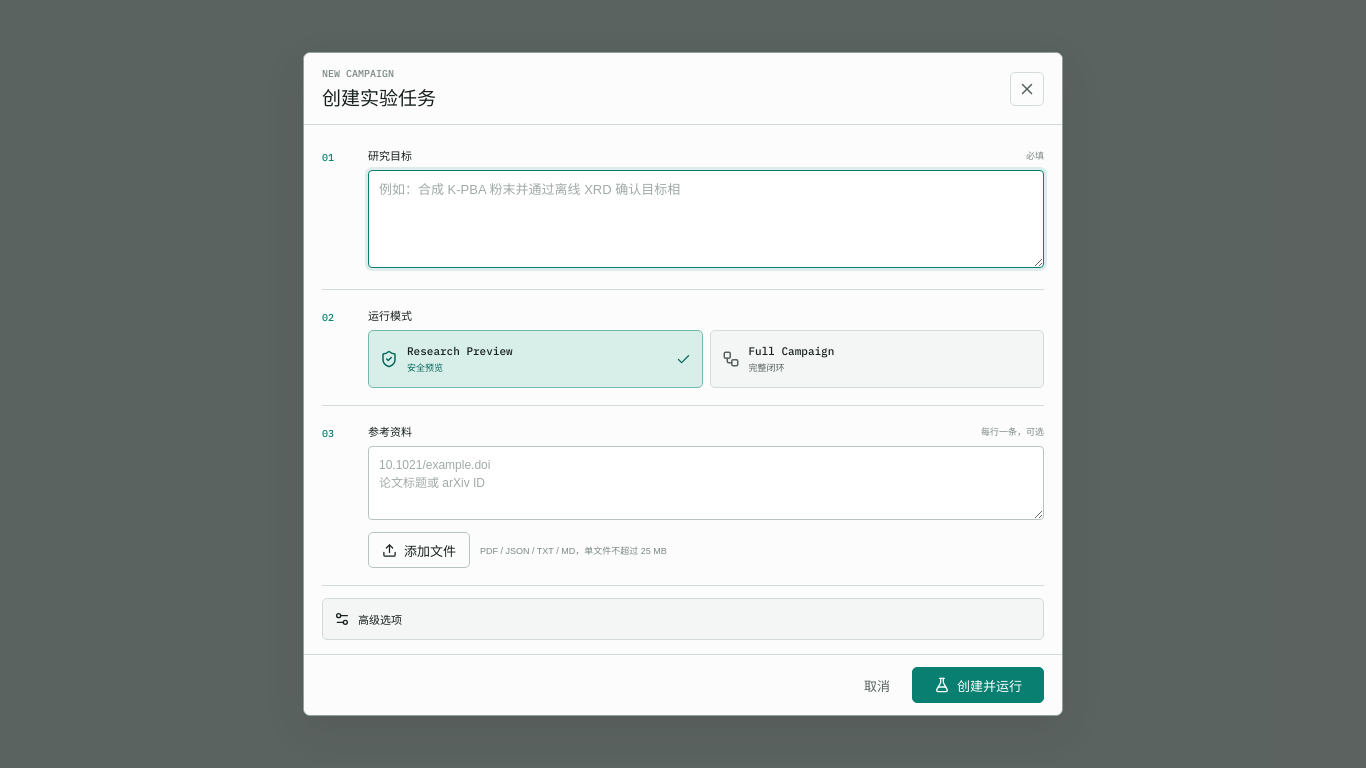
Test: NewCampaignDialog › clears and hides PDF download when online literature is disabled
Later steps or results of the test are not shown.
Click the heading "高级选项" at point(368, 619), box 334,611 -> 402,627
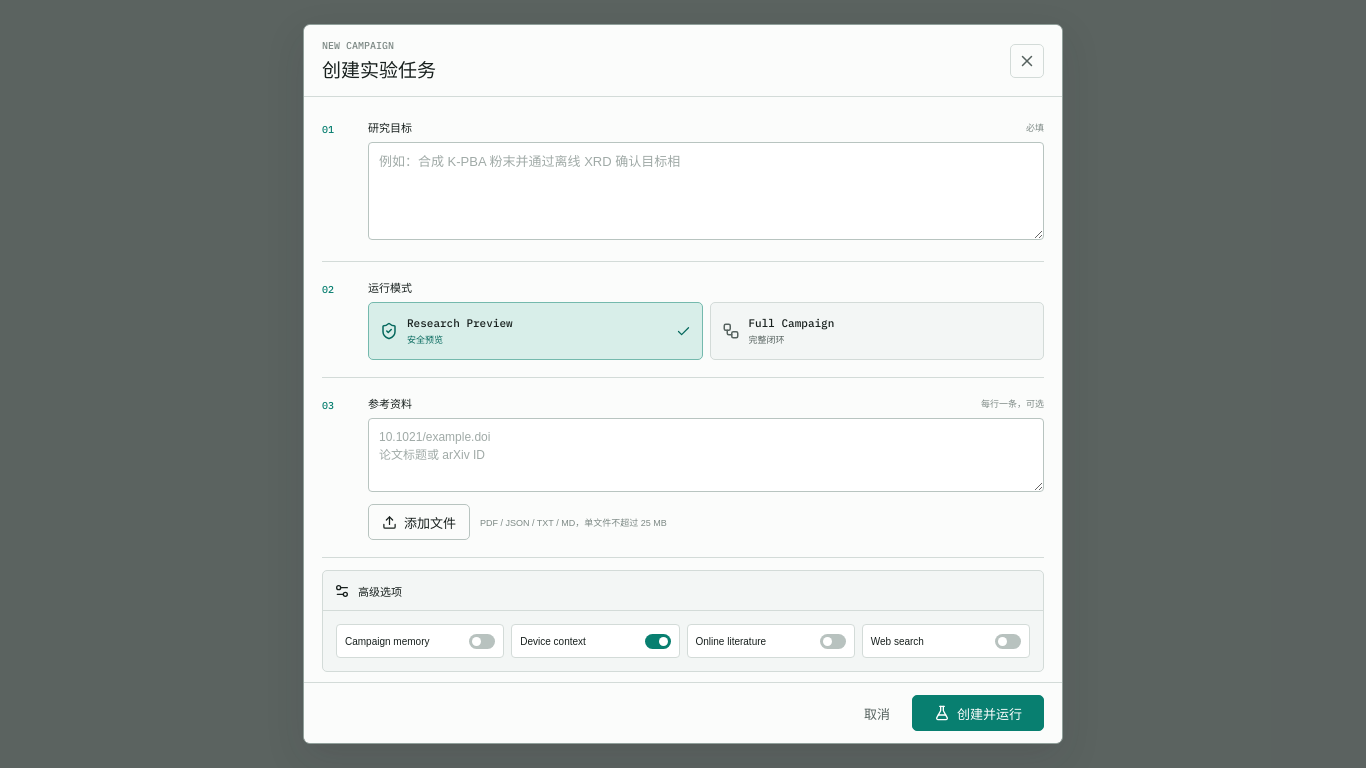
Click the checkbox labelled "Online literature" at point(771, 641), box 686,624 -> 855,658
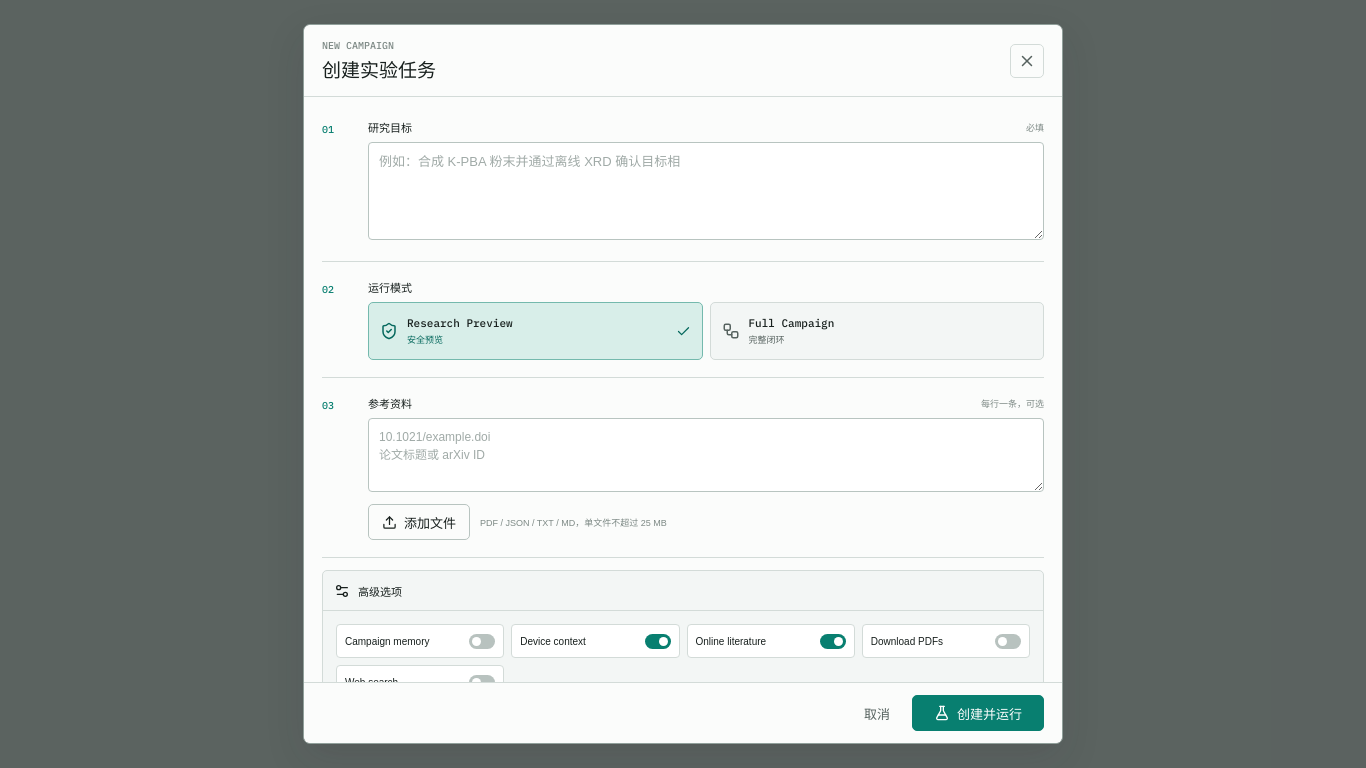
Click the checkbox labelled "Download PDFs" at point(946, 641), box 862,624 -> 1030,658
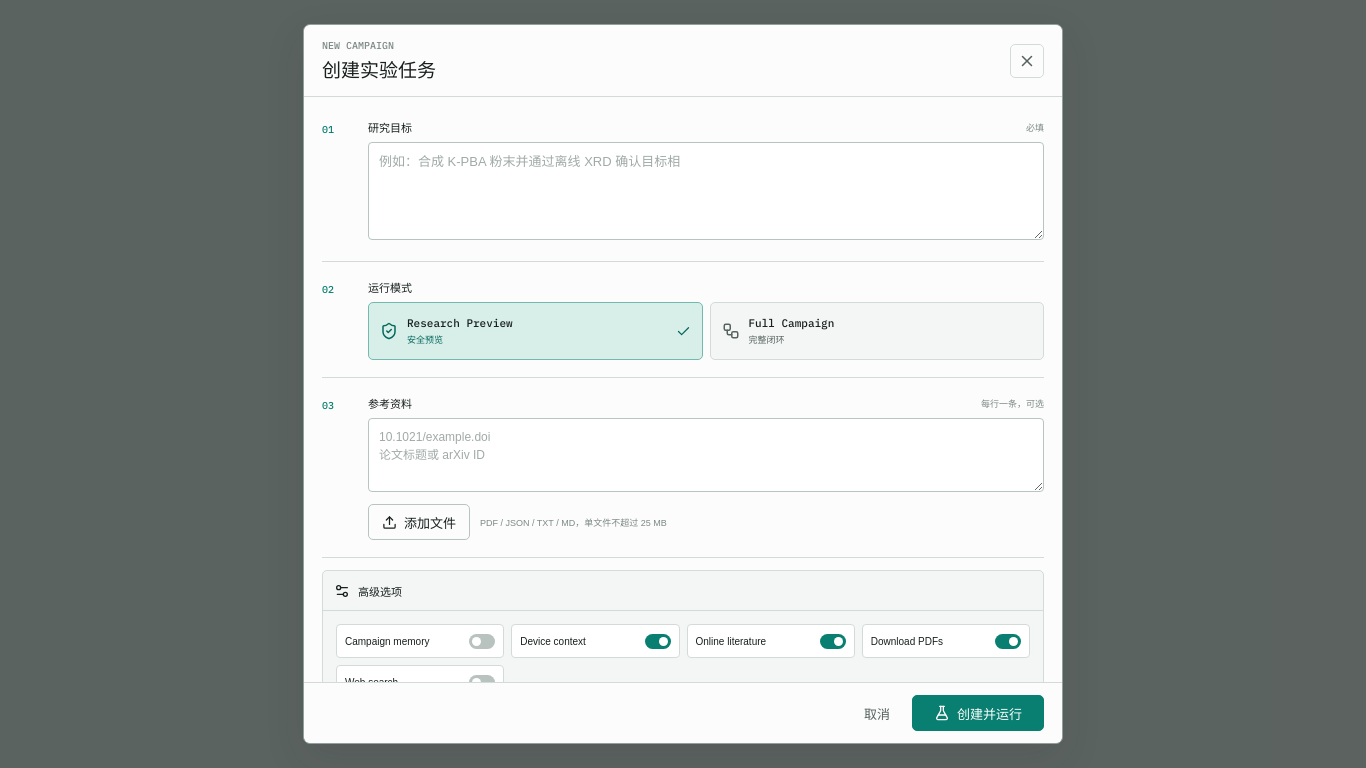
Click the checkbox labelled "Online literature" at point(771, 641), box 686,624 -> 855,658
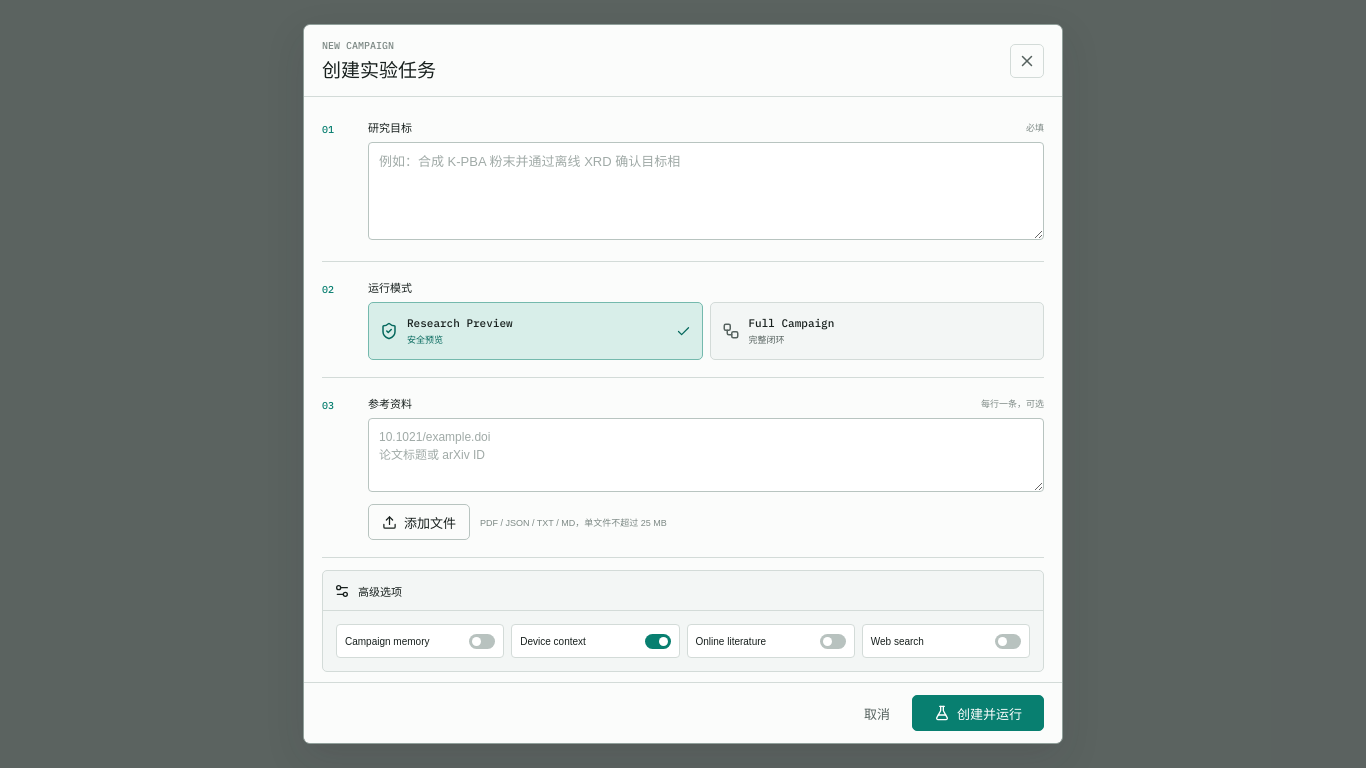
Now the text "Download PDFs" is gone
